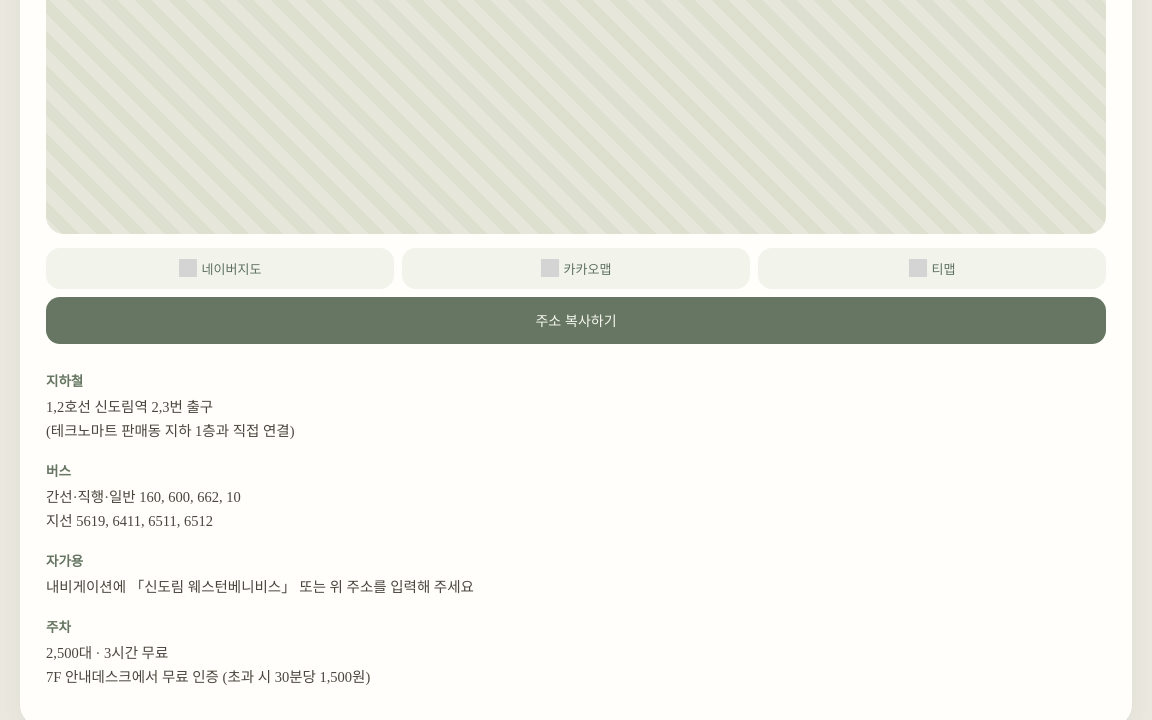
Test case: Location › MP-02 주소 복사 버튼이 INVITE 의 주소를 그대로 복사한다
(page scrolled)
Click the button "주소 복사하기".
click(576, 320)  # box top-left (46, 296), bottom-right (1106, 344)
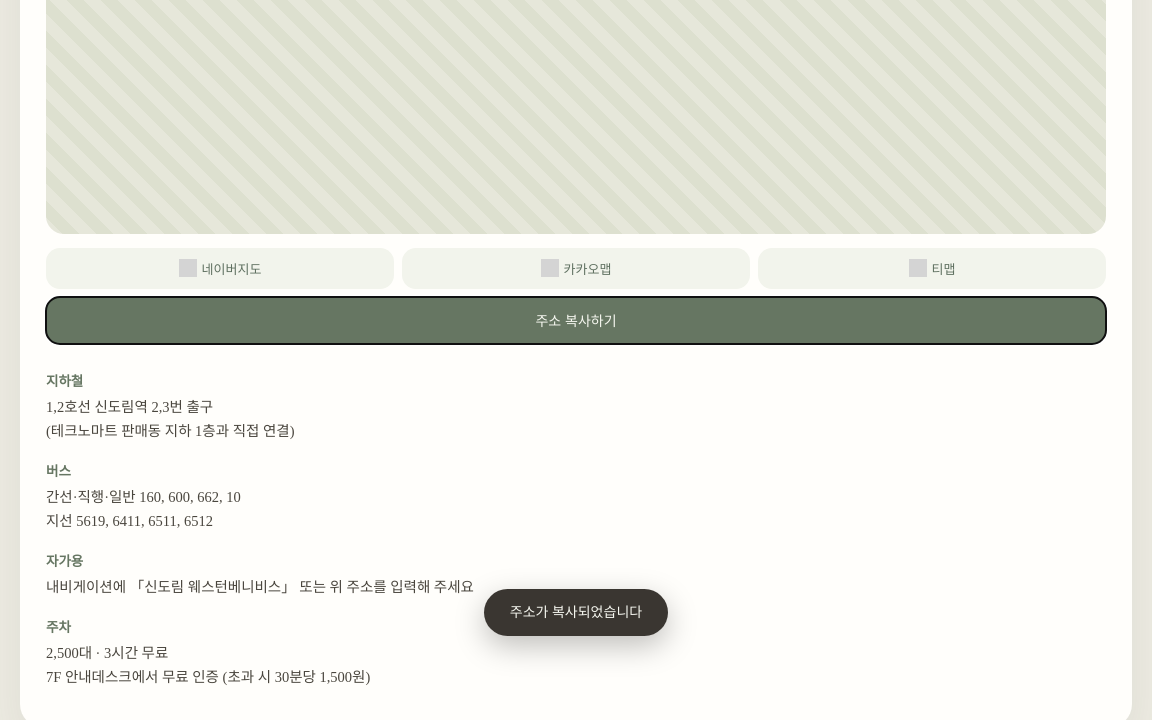
expect the message reads "주소가 복사되었습니다": met, box top-left (510, 605), bottom-right (642, 620)
